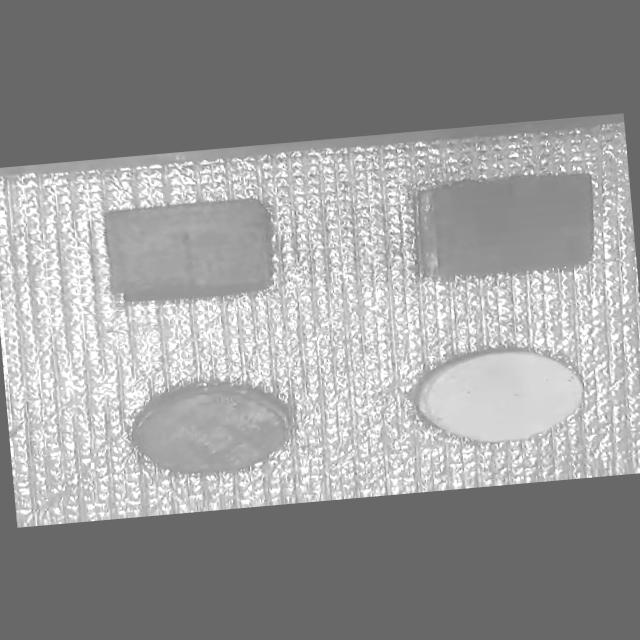bcube: (80, 183, 300, 325)
rcircle: (122, 365, 308, 494)
rcube: (414, 168, 609, 296)
ycircle: (406, 340, 606, 462)
